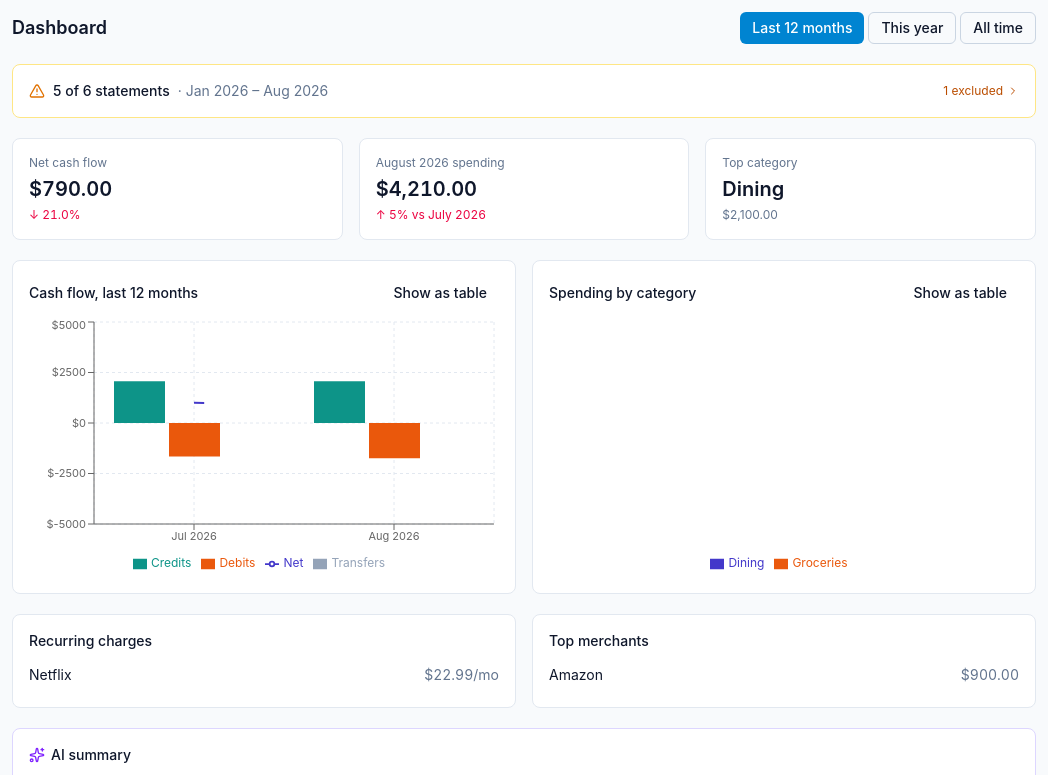
DashboardRoute › coverage bar reads amber and expands the excluded list
Expected: the text "5 of 6 statements" is shown, [53,81,170,101]
Click the text "1 excluded".
click(981, 91)  # box [943,83,1019,99]
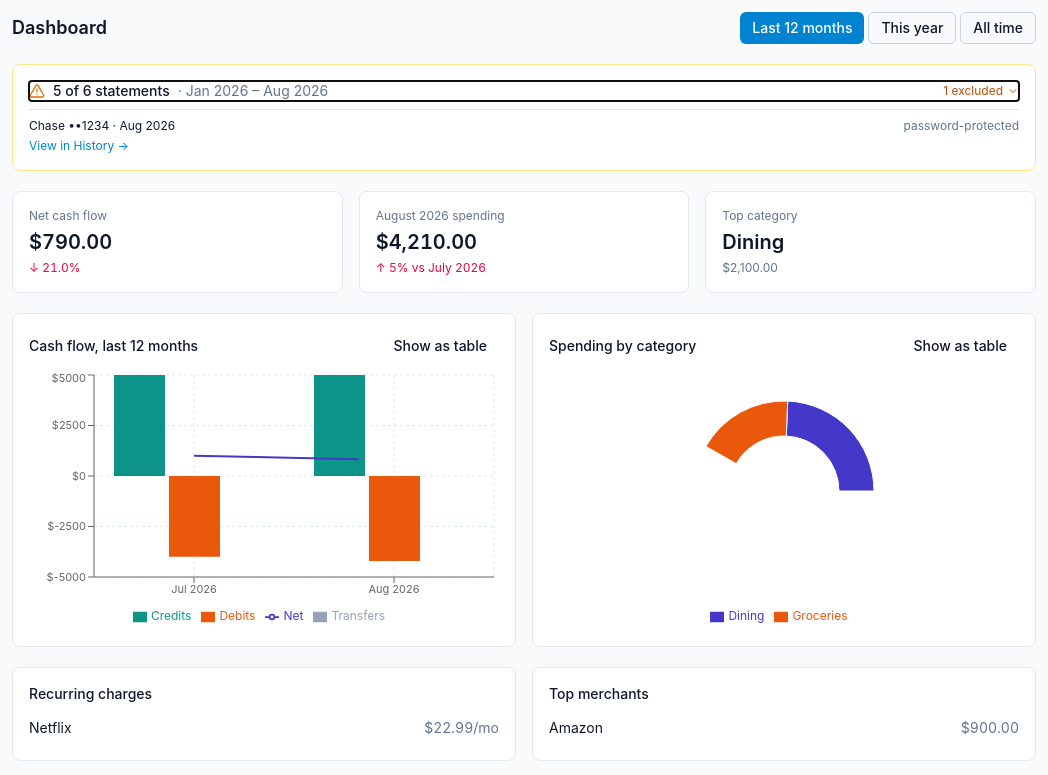
Expected: the text "password-protected" is shown, [904,118,1019,134]
